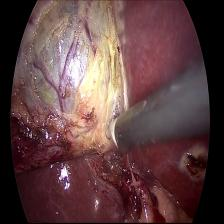Hook: (99, 111, 122, 161)
